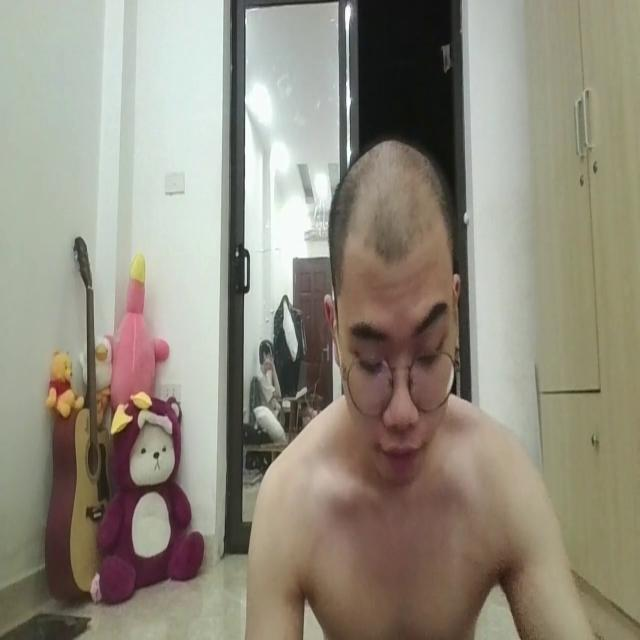extra_person: (248, 309, 293, 443)
student: (245, 121, 599, 640)
